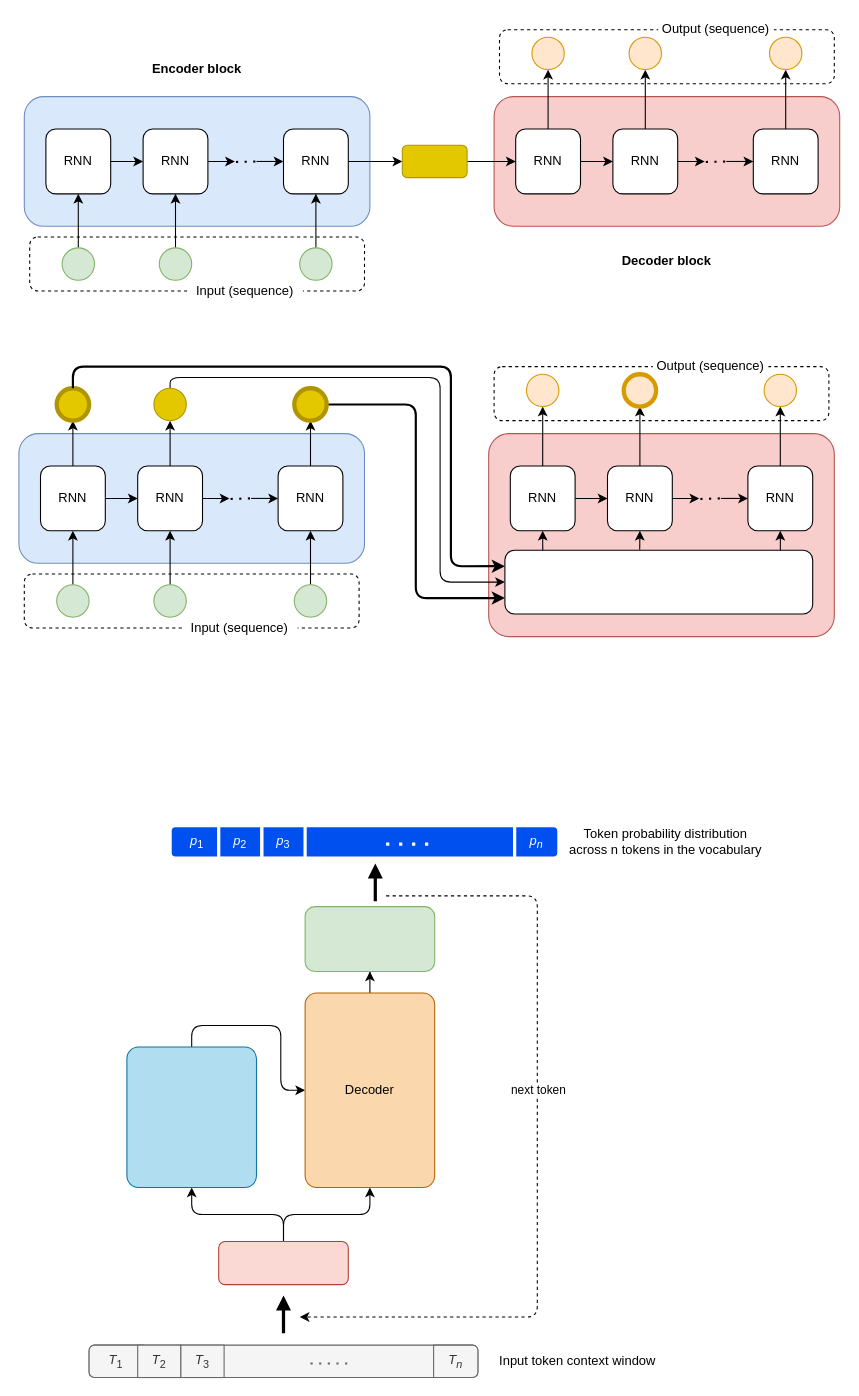
The diagram is 859 pixels wide and 1396 high, and some of its shapes have lost their labels. The shapes that lost their labels are listed below. From the top down, each one's centre as x and y in pixels, then its label:
At point 434,161: "State".
At point 658,581: "Attention".
At point 369,938: "Softmax layer".
At point 191,1116: "Encoder".
At point 283,1262: "Embedding".
